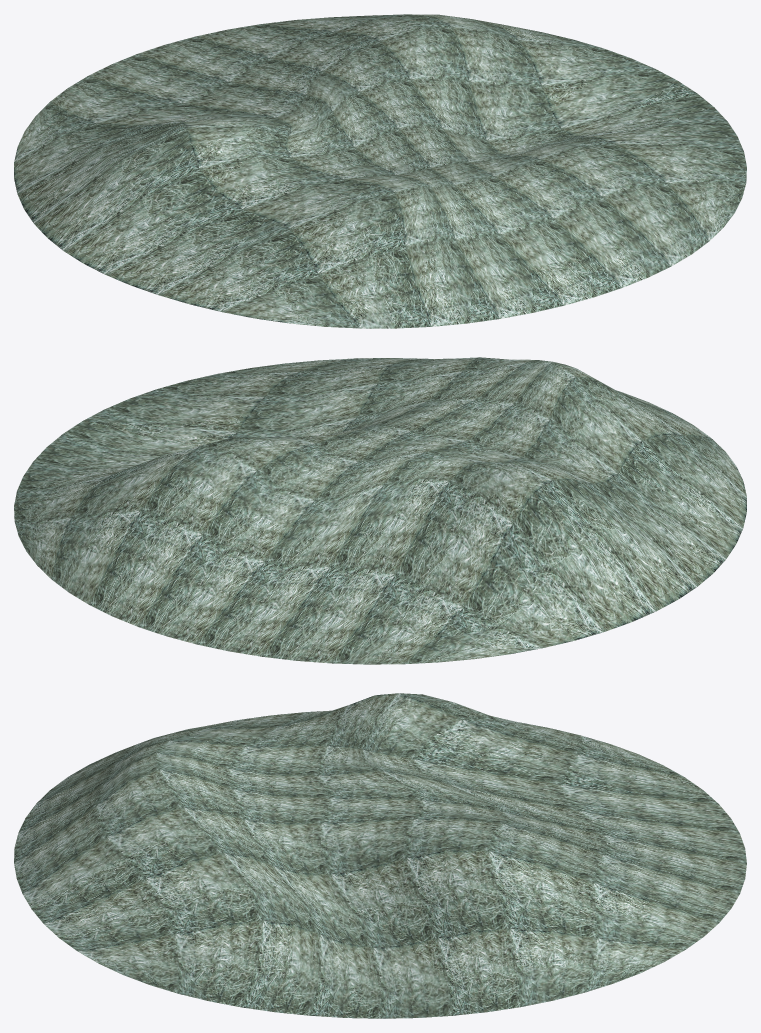
The picture shows the model from 3 angles, top to bottom: view 1: azimuth 30°, elevation 25°; view 2: azimuth 150°, elevation 25°; view 3: azimuth 270°, elevation 25°; orthographic projection.
Parts seen in each view (by area): view 1: heno2001_atlas_granja_0; view 2: heno2001_atlas_granja_0; view 3: heno2001_atlas_granja_0.
Part boxes in pixels (x1=…): heno2001_atlas_granja_0: x1=14, y1=14, x2=746, y2=328; heno2001_atlas_granja_0: x1=14, y1=357, x2=746, y2=664; heno2001_atlas_granja_0: x1=14, y1=693, x2=746, y2=1018.
Bounding box in the file's own units: 13.15 × 1.67 × 13.18.
Materials: 1 (1 with a texture image).
